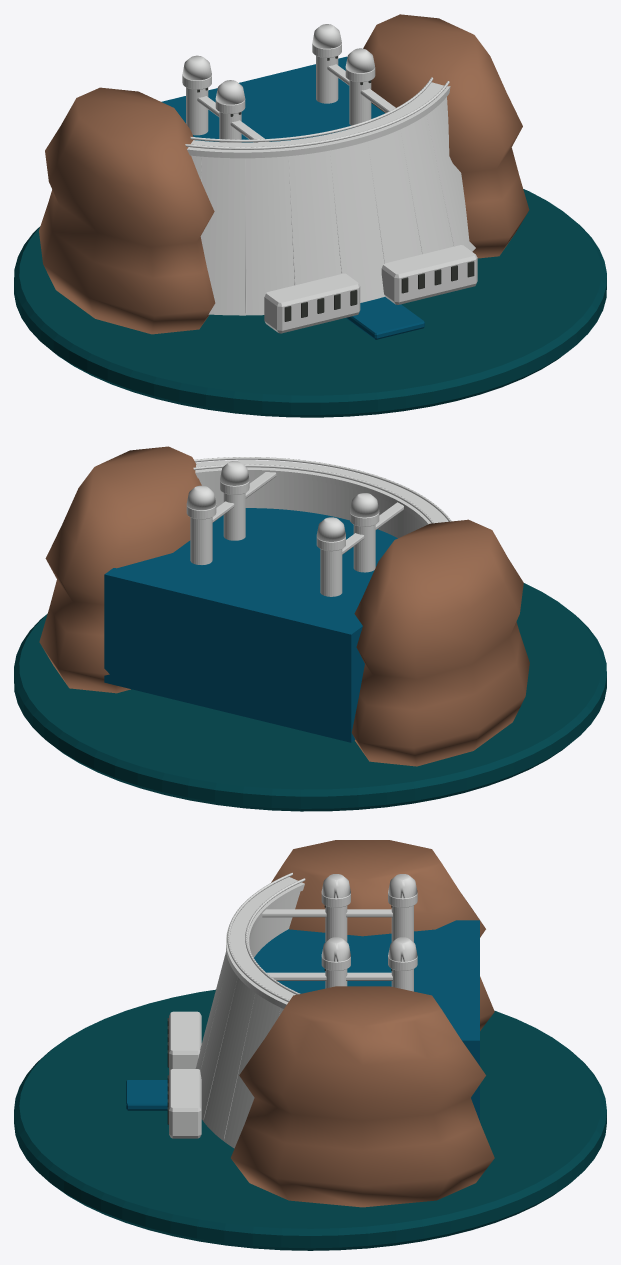
The model's file is hoover-dam.glb.
3 renders of one model, top to bottom at view 1: azimuth 30°, elevation 25°; view 2: azimuth 150°, elevation 25°; view 3: azimuth 270°, elevation 25°, orthographic.
Visible parts, largest first — view 1: body, pedestal; view 2: body, pedestal; view 3: body, pedestal.
Part boxes in pixels (x1,y1,x2,y2): body: [39, 14, 529, 339]; pedestal: [14, 189, 606, 417]; body: [39, 446, 529, 766]; pedestal: [14, 583, 606, 811]; body: [126, 840, 494, 1207]; pedestal: [14, 989, 606, 1250].
Bounding box in the file's own units: 4.4 × 1.79 × 4.4.
